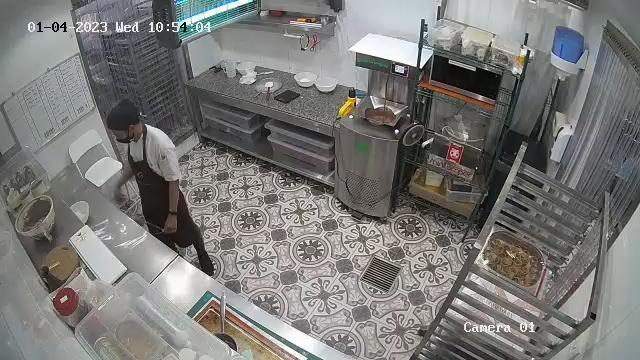gloves: (106, 96, 142, 131)
mask: (114, 132, 140, 146)
no_apron: (162, 210, 179, 236), (112, 185, 127, 206)
